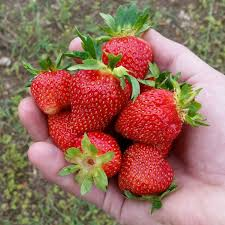ripe: (67, 60, 129, 130), (114, 138, 179, 202), (124, 85, 185, 144), (98, 36, 160, 91), (71, 128, 123, 184), (28, 70, 77, 120), (42, 106, 84, 154)
